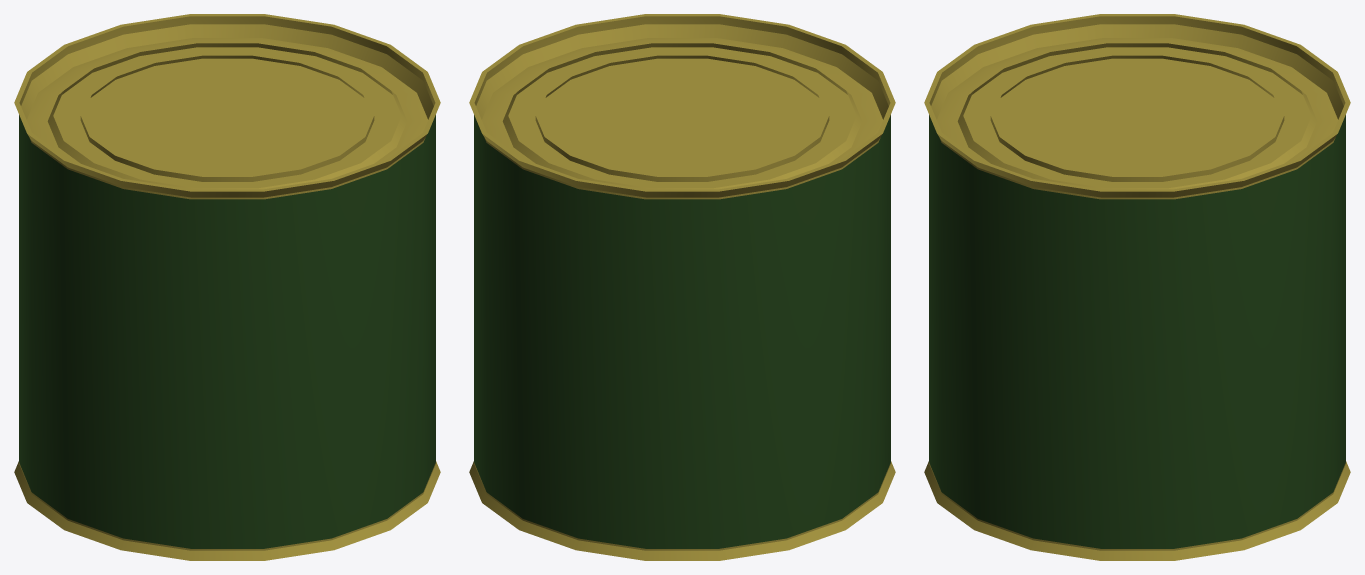
File: tyshenka.fbx
3 renders of one model, left to right at view 1: azimuth 30°, elevation 25°; view 2: azimuth 150°, elevation 25°; view 3: azimuth 270°, elevation 25°, orthographic.
Visible parts, largest first — view 1: Cylinder; view 2: Cylinder; view 3: Cylinder.
Boxes of the visible parts, left/top/right/bottom form: Cylinder: left=14, top=14, right=440, bottom=560; Cylinder: left=469, top=14, right=895, bottom=560; Cylinder: left=924, top=14, right=1350, bottom=560.
Size of the model in its own units: 250 by 243 by 254.
